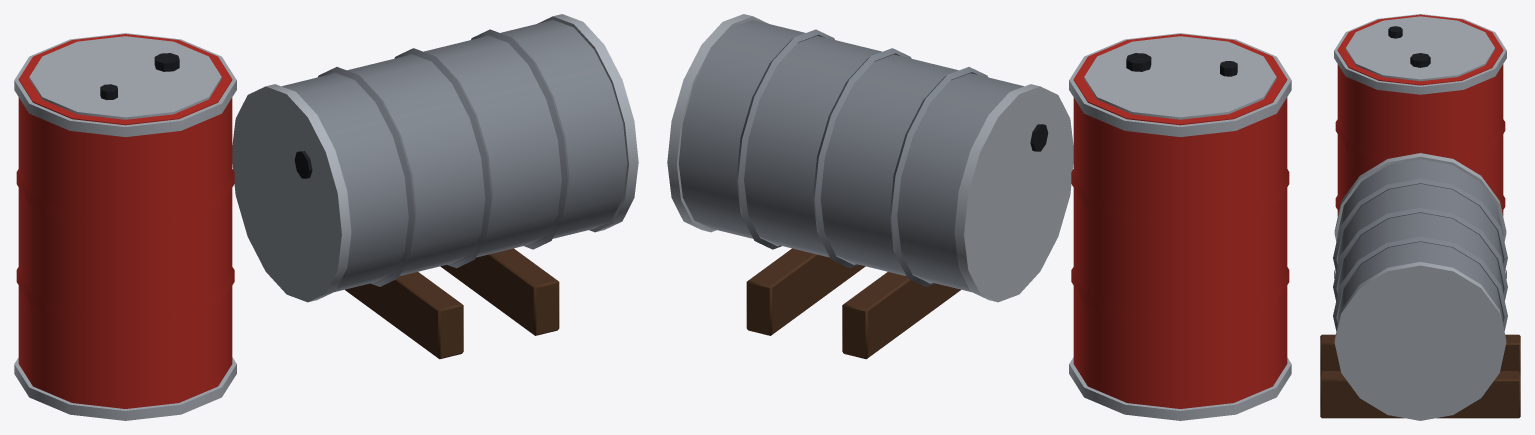
File: barrel_steel_drum_pair.glb
3 views of the same model, side by side, from view 1: azimuth 30°, elevation 25°; view 2: azimuth 150°, elevation 25°; view 3: azimuth 270°, elevation 25° (orthographic). The views are drawn at different scales.
Parts seen in each view (by area): view 1: barrel_steel_drum_pair; view 2: barrel_steel_drum_pair; view 3: barrel_steel_drum_pair.
Boxes of the visible parts, x1=… form: barrel_steel_drum_pair: x1=14, y1=14, x2=638, y2=420; barrel_steel_drum_pair: x1=667, y1=14, x2=1291, y2=420; barrel_steel_drum_pair: x1=1320, y1=14, x2=1520, y2=420.
Bounding box in the file's own units: 1.74 × 0.918 × 0.7.
